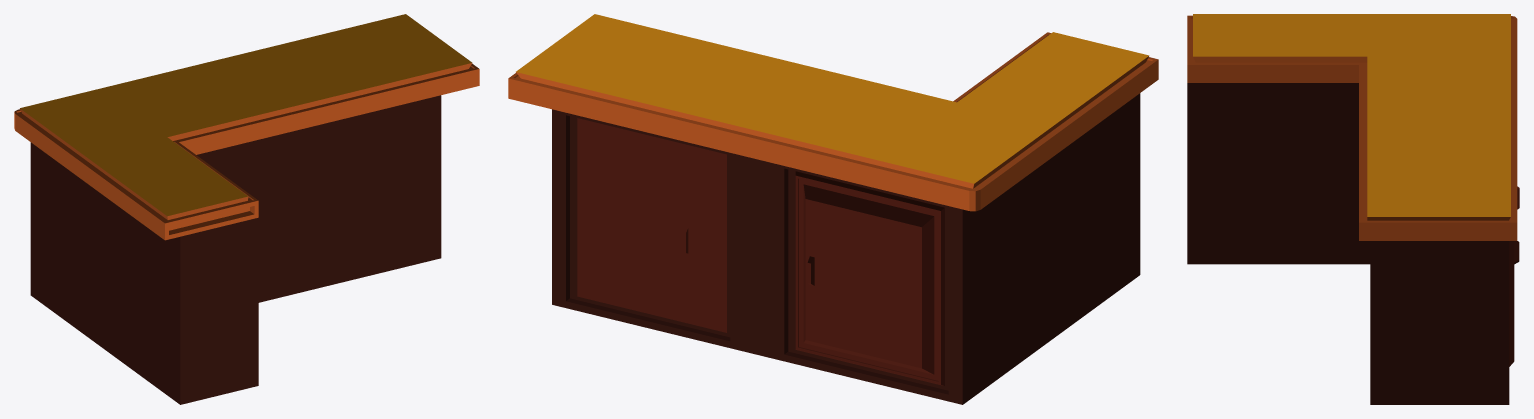
The model's file is Counter.fbx.
3 renders of one model, left to right at view 1: azimuth 30°, elevation 25°; view 2: azimuth 150°, elevation 25°; view 3: azimuth 270°, elevation 25°, orthographic. The views are drawn at different scales.
Parts seen in each view (by area): view 1: Node 0; view 2: Node 0, Node 1, Node 2; view 3: Node 0, Node 1.
Boxes of the visible parts, x1,y1,x2,y2 form: Node 0: [14, 14, 479, 404]; Node 0: [508, 14, 1158, 404]; Node 1: [577, 118, 726, 332]; Node 2: [795, 171, 944, 385]; Node 0: [1187, 14, 1517, 404]; Node 1: [1509, 241, 1519, 366].
Size of the model in its own units: 1.71 by 1.16 by 2.52.
